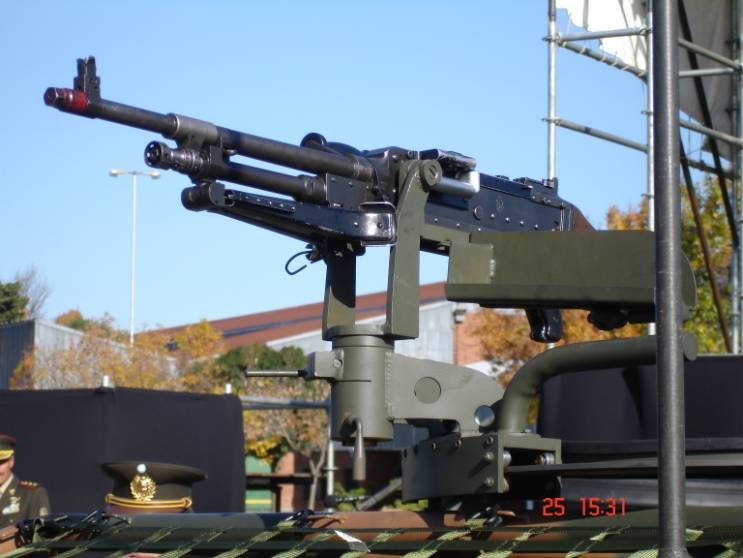rifle: (26, 53, 673, 493)
